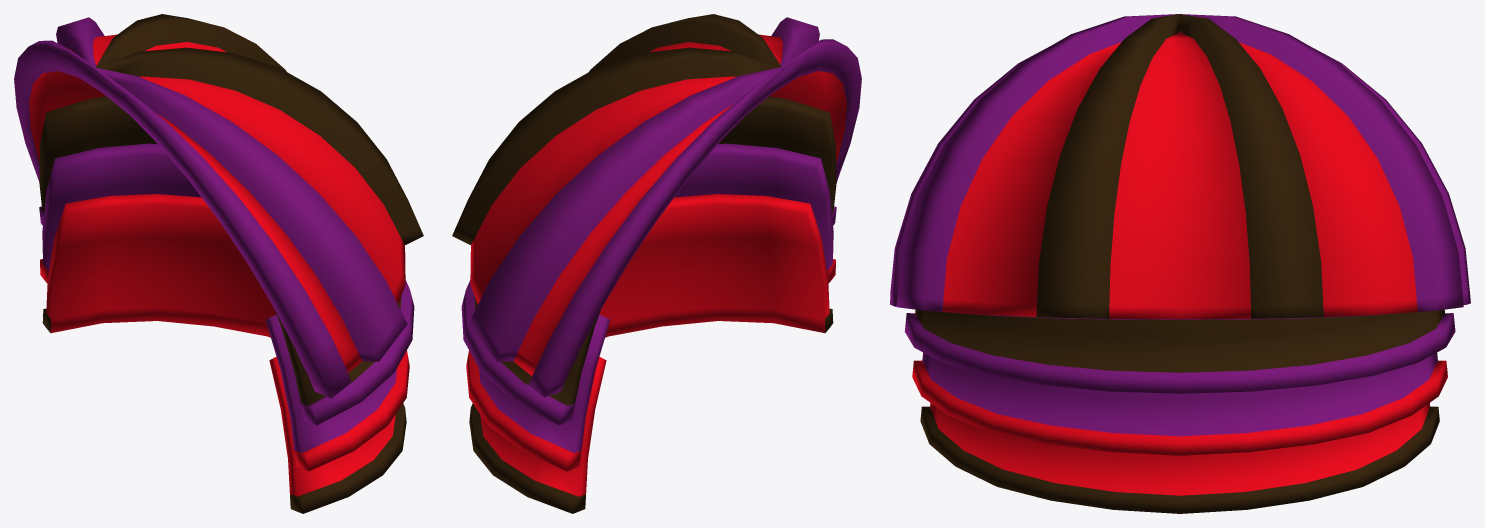
File: hombrera.fbx
3 renders of one model, left to right at view 1: azimuth 30°, elevation 25°; view 2: azimuth 150°, elevation 25°; view 3: azimuth 270°, elevation 25°, orthographic.
Visible parts, largest first — view 1: Sphere, Sphere.003, Sphere.002, Sphere.001; view 2: Sphere, Sphere.003, Sphere.002, Sphere.001; view 3: Sphere, Sphere.001, Sphere.002, Sphere.003.
Boxes of the visible parts, x1=… form: Sphere: x1=14, y1=14, x2=423, y2=398; Sphere.003: x1=42, y1=194, x2=406, y2=513; Sphere.002: x1=40, y1=143, x2=409, y2=471; Sphere.001: x1=39, y1=96, x2=414, y2=425; Sphere: x1=452, y1=14, x2=861, y2=397; Sphere.003: x1=469, y1=194, x2=833, y2=513; Sphere.002: x1=466, y1=143, x2=835, y2=471; Sphere.001: x1=461, y1=96, x2=836, y2=425; Sphere: x1=890, y1=14, x2=1470, y2=319; Sphere.001: x1=904, y1=309, x2=1455, y2=393; Sphere.002: x1=912, y1=352, x2=1447, y2=455; Sphere.003: x1=920, y1=403, x2=1439, y2=513.
Size of the model in its own units: 5.83 by 7.71 by 10.58.
